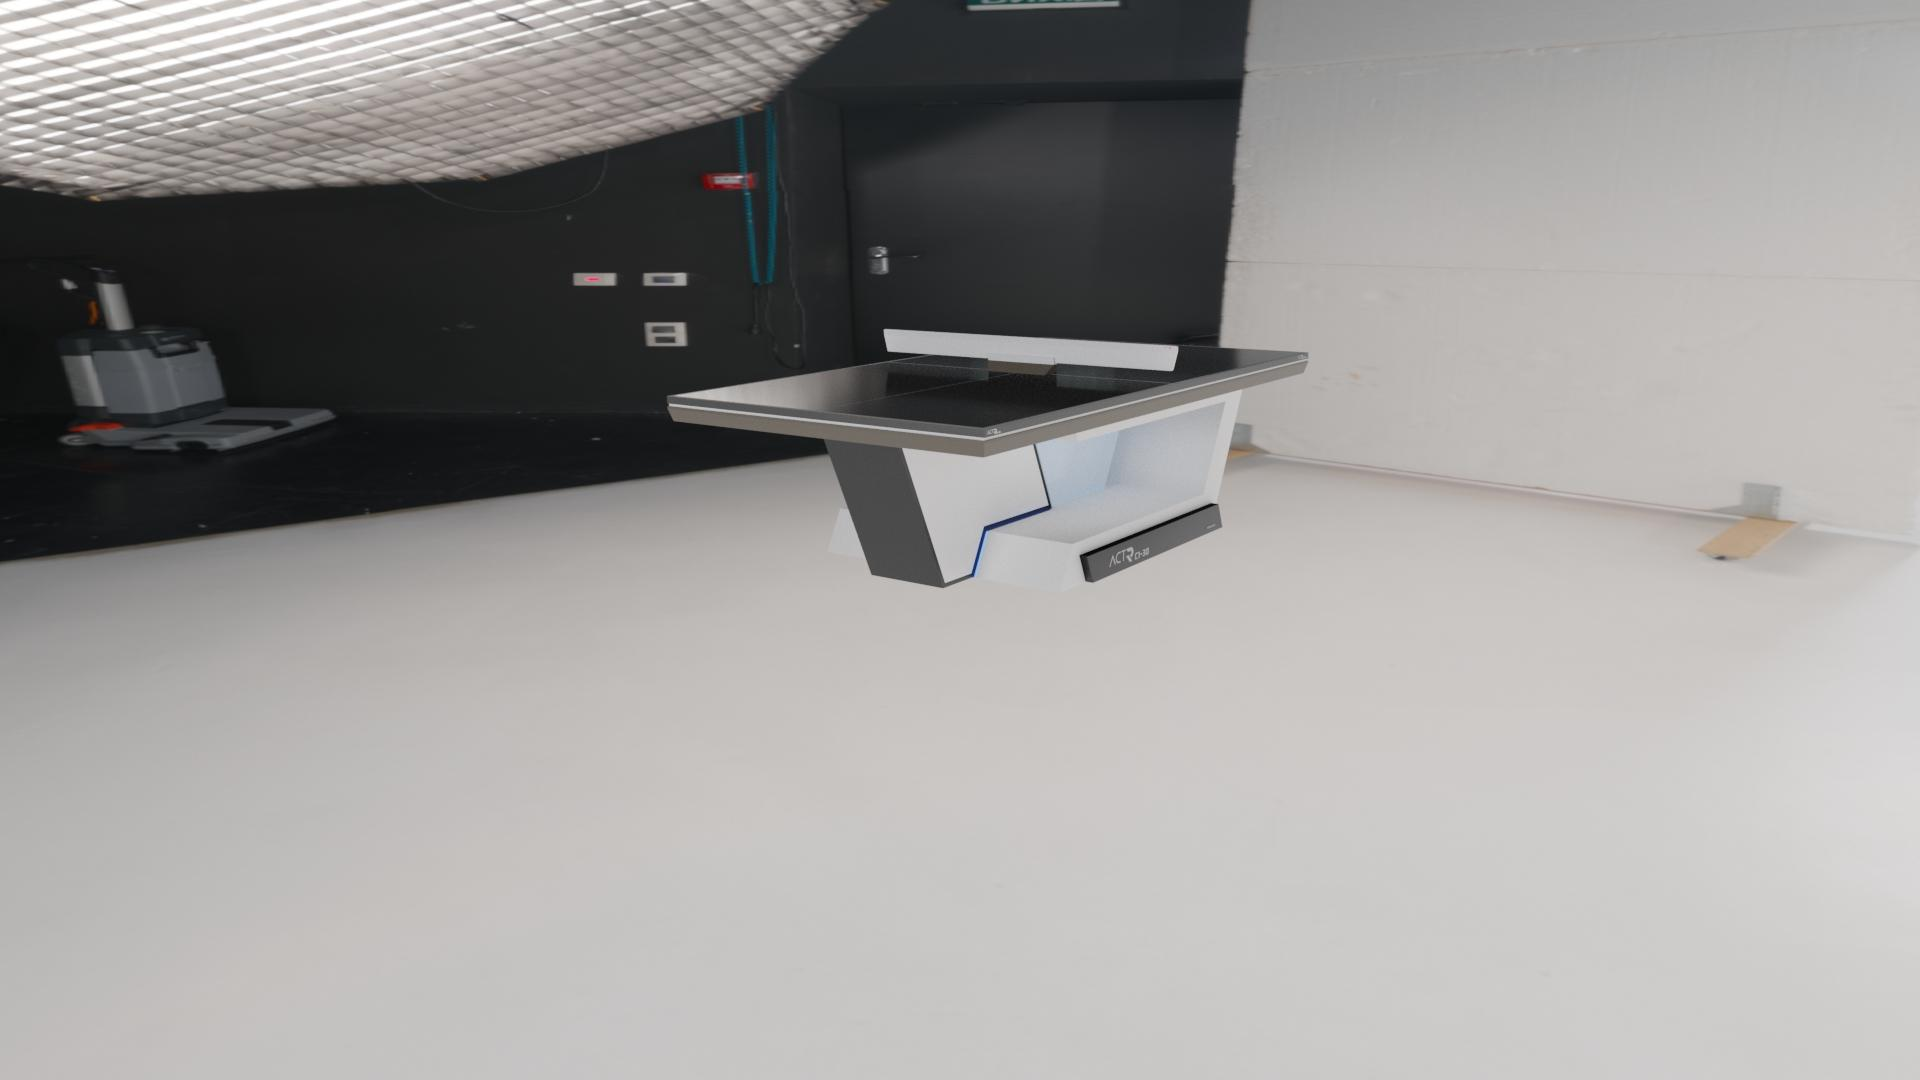table: (674, 338, 1303, 427)
